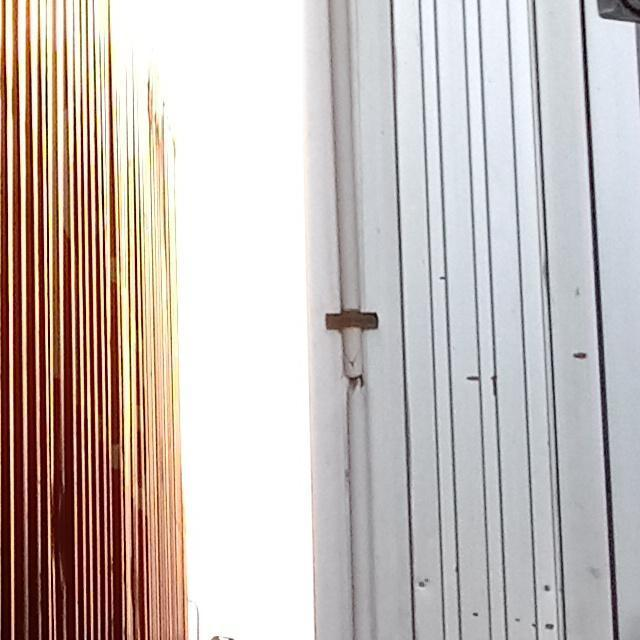dent: (46, 476, 81, 601)
